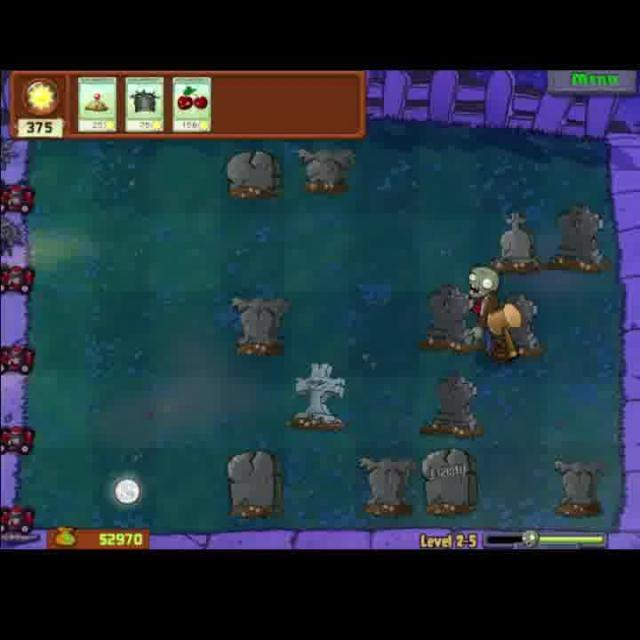coins: (112, 477, 148, 508)
zombies: (463, 257, 509, 363)
